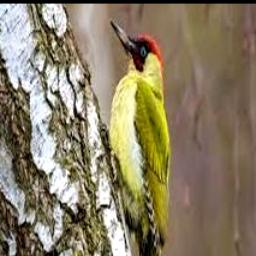Woodpecker: (99, 20, 172, 256)
